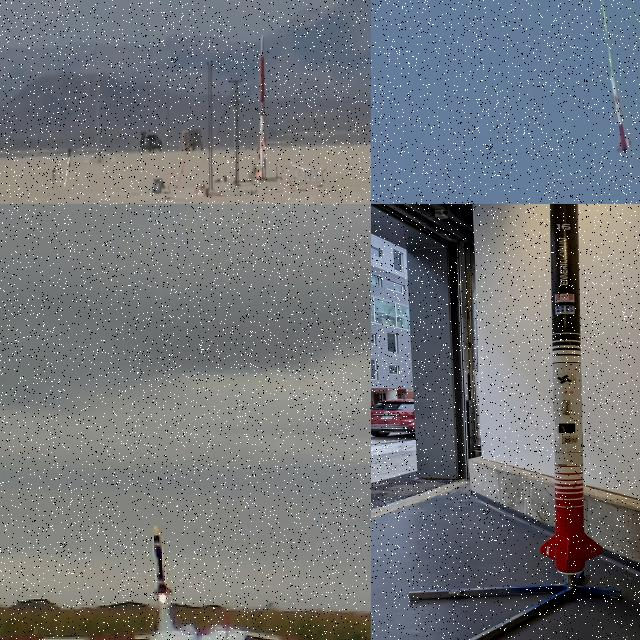Rocket: (540, 204, 602, 575), (610, 72, 632, 154), (152, 524, 172, 597), (257, 36, 267, 169)
